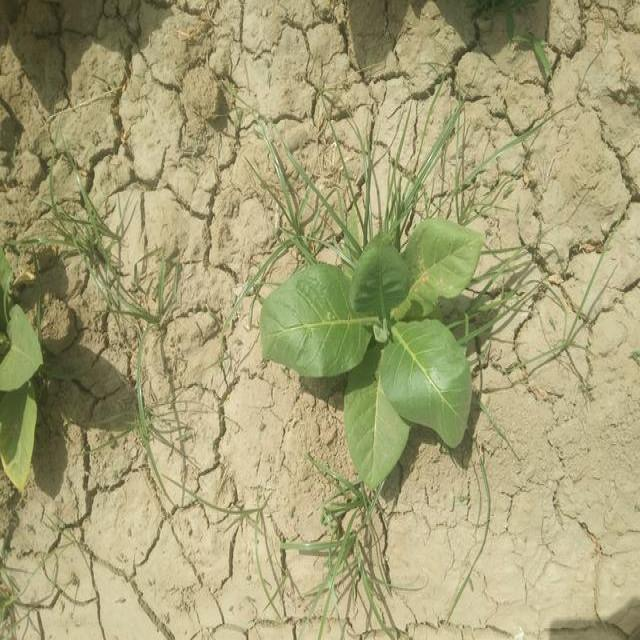crop: (248, 216, 477, 496)
